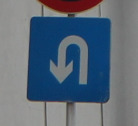u_turn: (26, 16, 111, 103)
